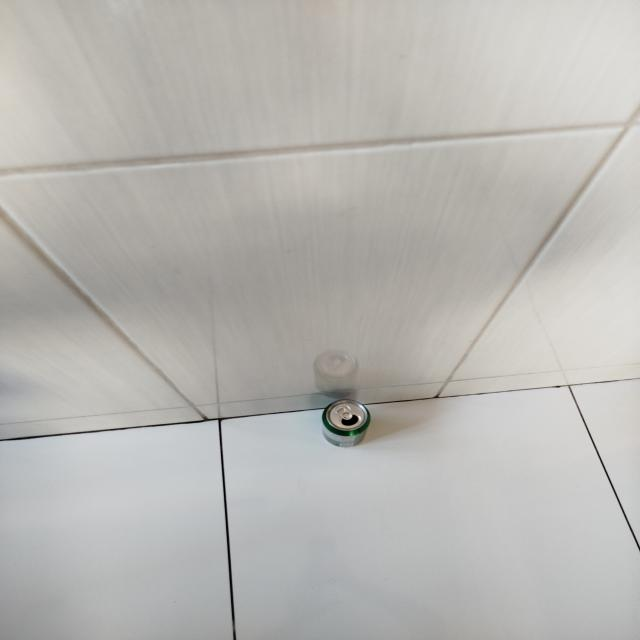Guarana: (320, 398, 374, 448)
